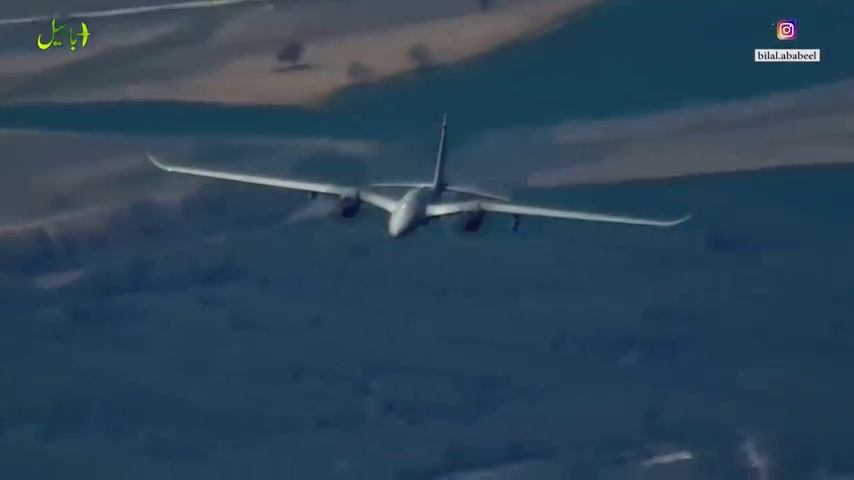military drone: (145, 112, 692, 239)
